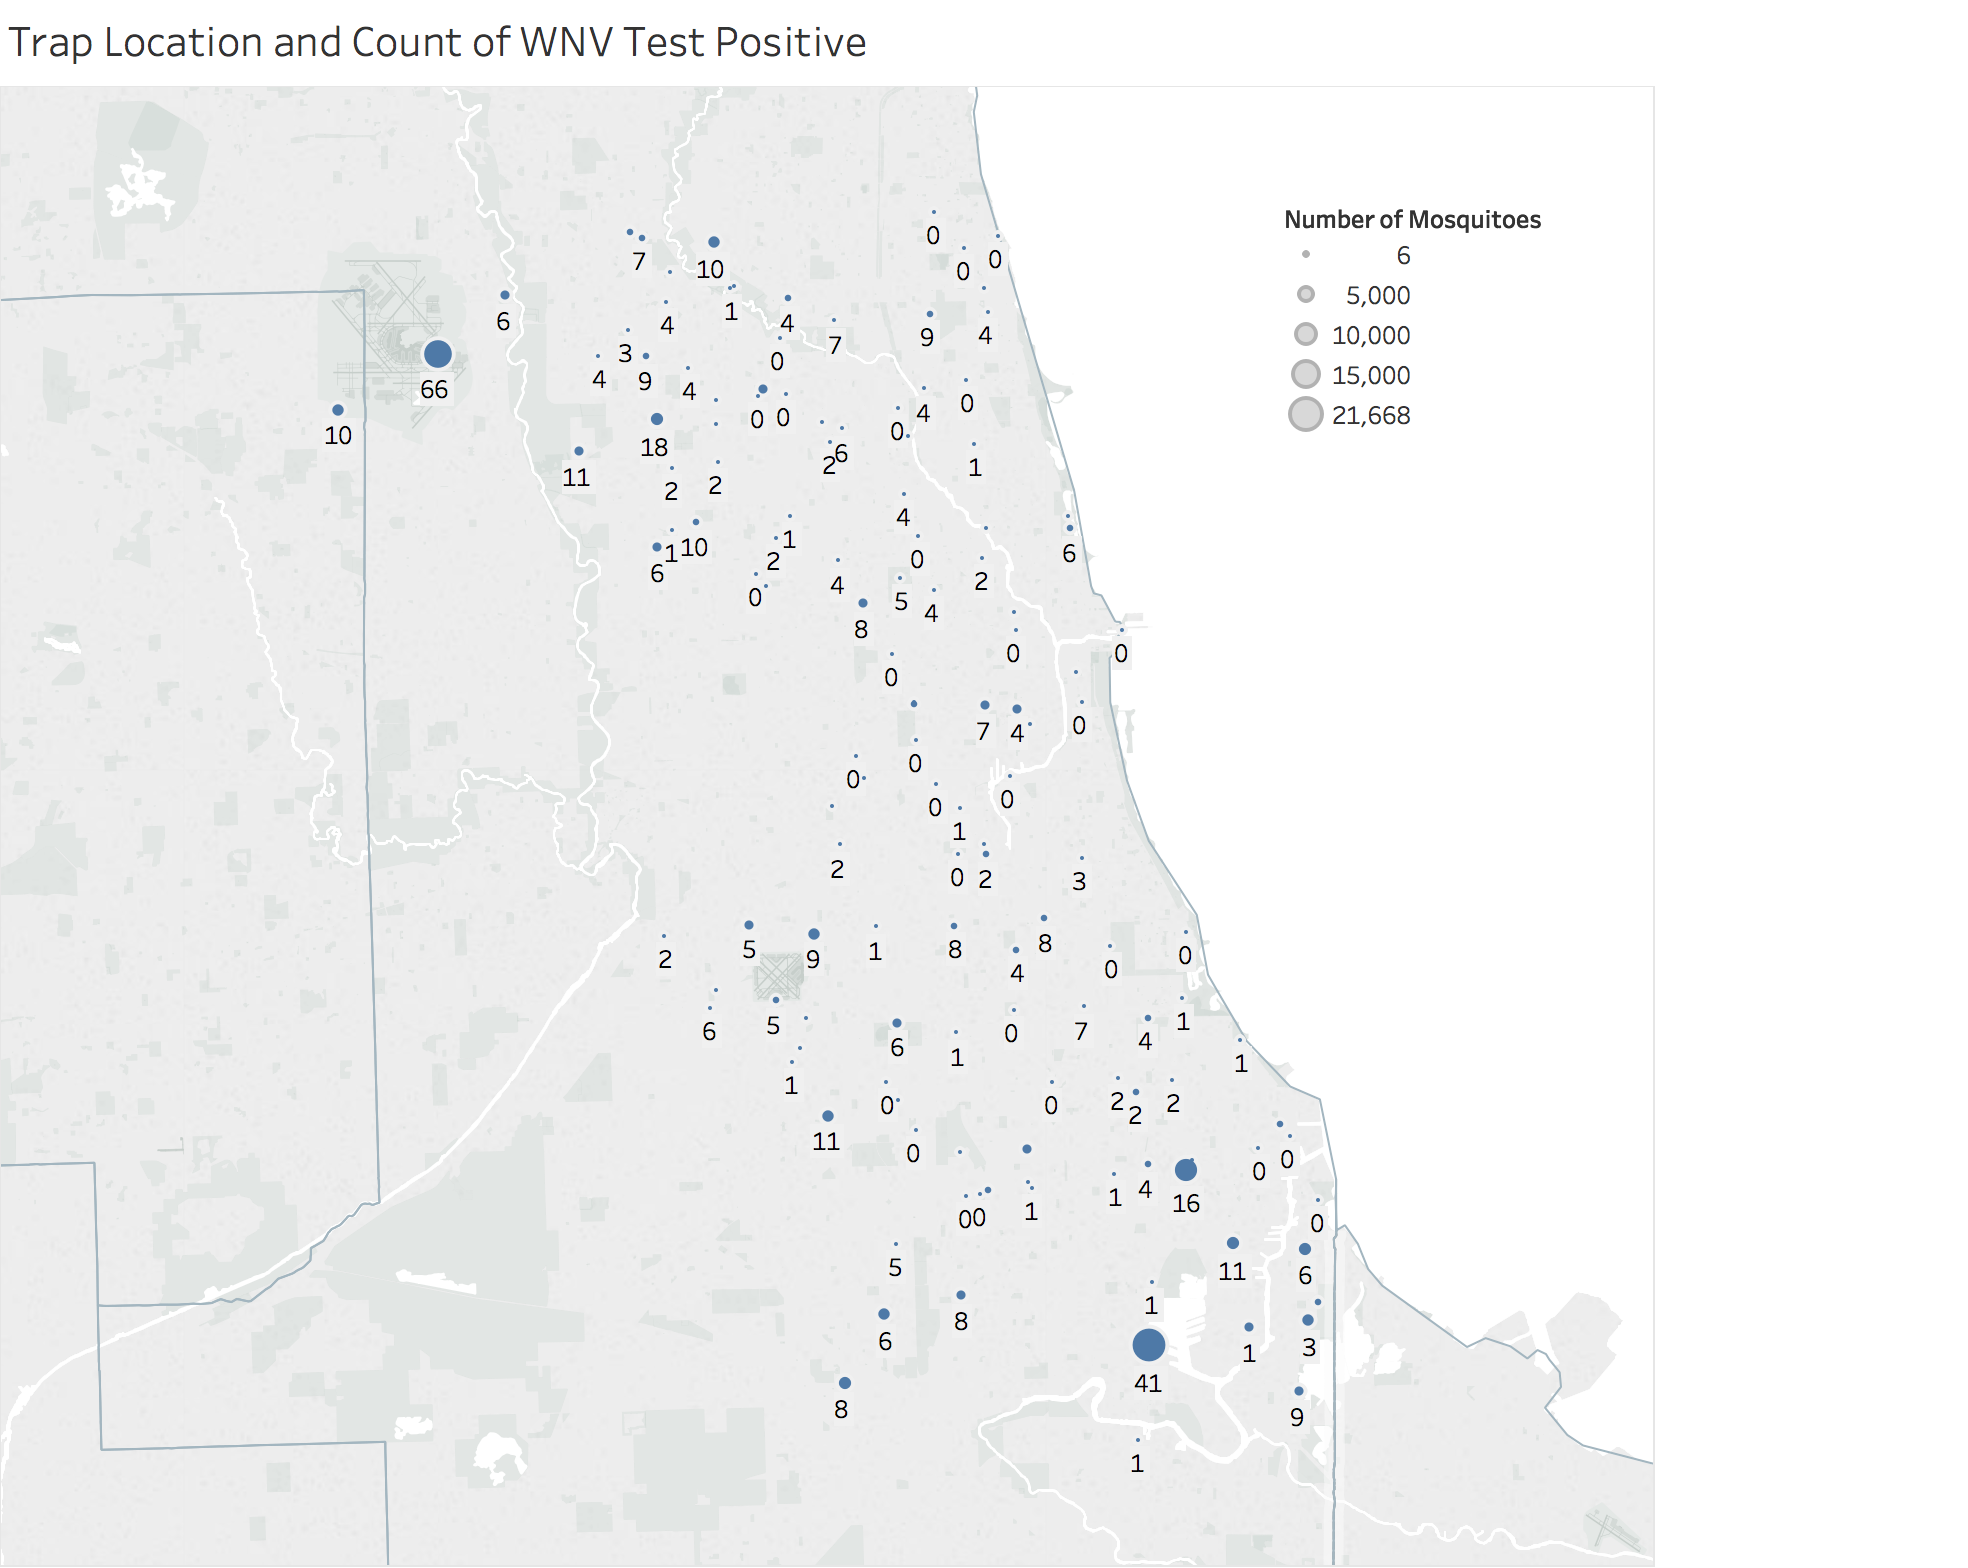

The dashboard page shown, as its layout file describes it:
{"tool":"tableau","page":{"name":"Dashboard 1","canvas":[1000,800],"ordinal":0},"visuals":[{"type":"worksheet","title":"Sheet 2","mark":"Automatic","rows":["Latitude"],"cols":["Longitude"],"box":[0,0,840,800]},{"type":"legend","title":"Sheet 2","param":"[federated.1b4jy3n1kj91ff1fgteg41v4w5s0].[none:WnvPresent:qk]","box":[840,0,160,26]},{"type":"legend","title":"Sheet 2","param":"[federated.1b4jy3n1kj91ff1fgteg41v4w5s0].[sum:NumMosquitos:qk]","box":[649,107,133,135]}]}

Visuals, with their boxes in screenshot pixels (x1, y1, x2, y2), scaled from the page's 1000x800 canvas onto the 1968x1568 screenshot:
"Sheet 2" worksheet: (0,0,1653,1567)
"Sheet 2" legend: (1653,0,1967,51)
"Sheet 2" legend: (1277,210,1539,474)
